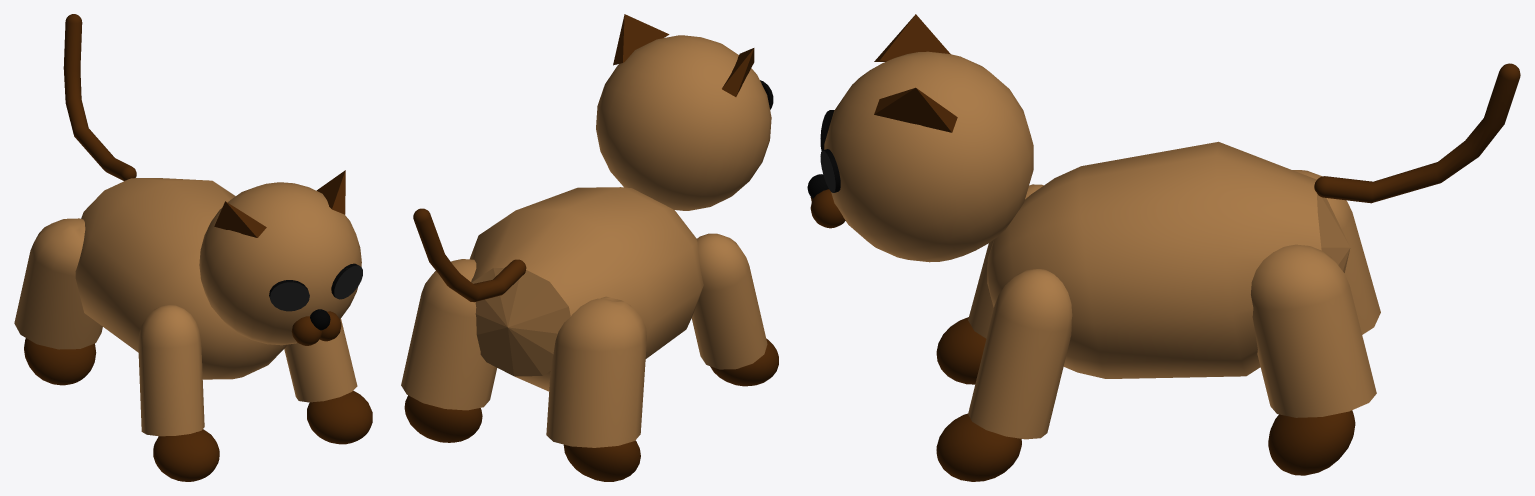
File: Cat.fbx
3 views of the same model, side by side, from view 1: azimuth 30°, elevation 25°; view 2: azimuth 150°, elevation 25°; view 3: azimuth 270°, elevation 25° (orthographic). The views are drawn at different scales.
Visible parts, largest first — view 1: Cat; view 2: Cat; view 3: Cat.
Boxes of the visible parts, bbox=[...] form: Cat: bbox=[14, 14, 372, 481]; Cat: bbox=[401, 14, 778, 481]; Cat: bbox=[807, 14, 1520, 481].
Bounding box in the file's own units: 11.77 × 15.27 × 26.17.
Materials: 1 (1 with a texture image).
